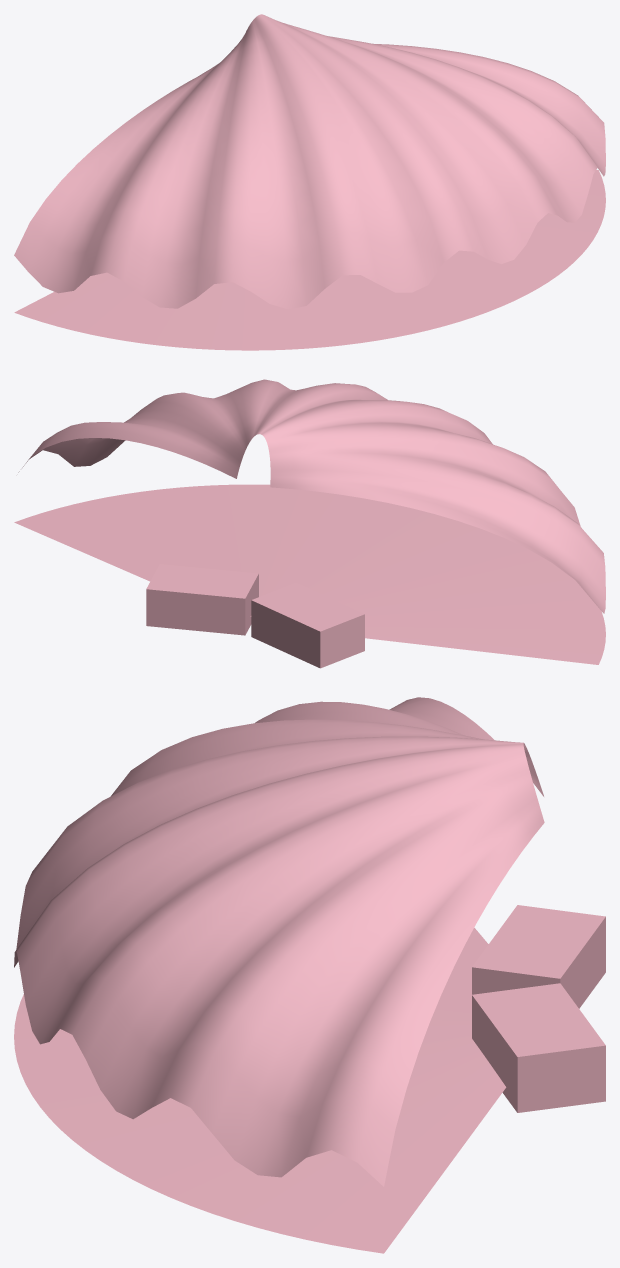
File: beach_shell.glb
The picture shows the model from 3 angles, top to bottom: view 1: azimuth 30°, elevation 25°; view 2: azimuth 150°, elevation 25°; view 3: azimuth 270°, elevation 25°; orthographic projection. The views are drawn at different scales.
Parts seen in each view (by area): view 1: beach_shell; view 2: beach_shell; view 3: beach_shell.
Part boxes in pixels (x1,y1,x2,y2): beach_shell: (14,14,605,350); beach_shell: (14,379,605,668); beach_shell: (14,697,605,1253).
Size of the model in its own units: 1.33 by 0.4194 by 0.7669.
